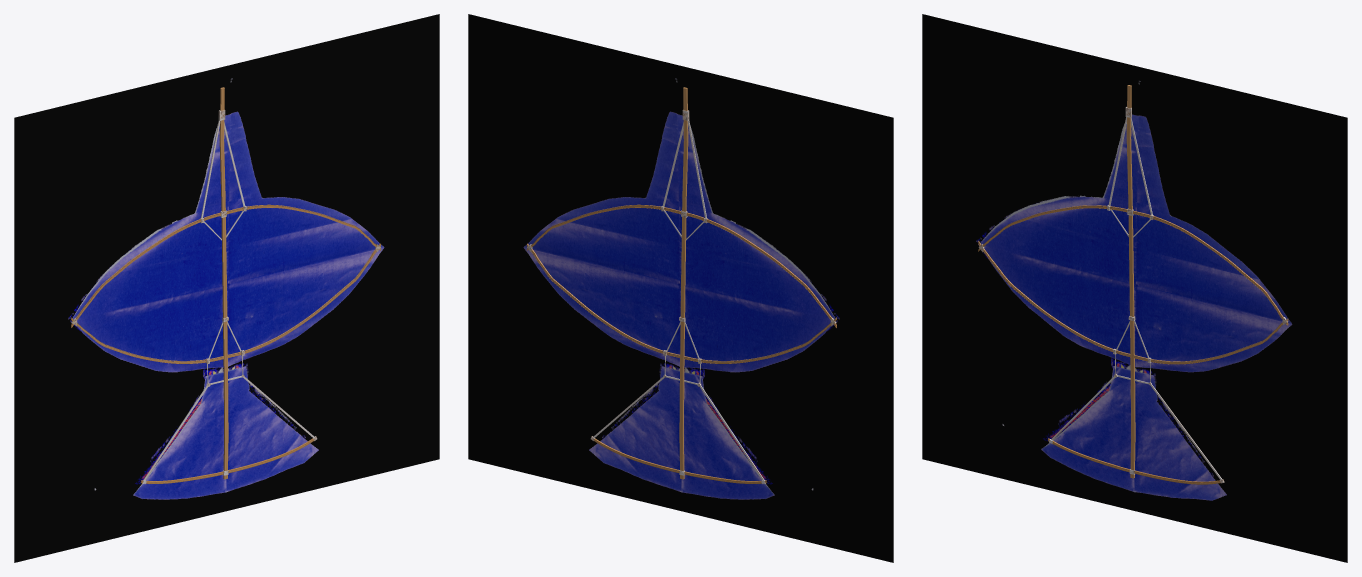
The model's file is WauSeparated.fbx.
3 views of the same model, side by side, from view 1: azimuth 30°, elevation 25°; view 2: azimuth 150°, elevation 25°; view 3: azimuth 330°, elevation 25° (orthographic).
Visible parts, largest first — view 1: Layer 2, Layer 1, Cube; view 2: Layer 2, Layer 1, Cube; view 3: Layer 2, Layer 1, Cube.
Boxes of the visible parts, bbox=[...] form: Layer 2: bbox=[14, 14, 439, 562]; Layer 1: bbox=[72, 111, 384, 499]; Cube: bbox=[71, 87, 380, 483]; Layer 2: bbox=[468, 14, 893, 562]; Layer 1: bbox=[523, 111, 835, 499]; Cube: bbox=[527, 87, 836, 483]; Layer 2: bbox=[922, 14, 1347, 562]; Layer 1: bbox=[980, 114, 1292, 500]; Cube: bbox=[978, 85, 1288, 484].
Size of the model in its own units: 500 by 500 by 6.01.
